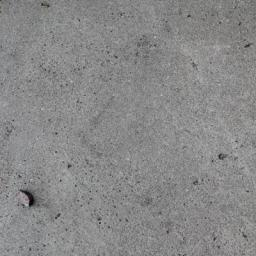FOD: (13, 186, 39, 213)
